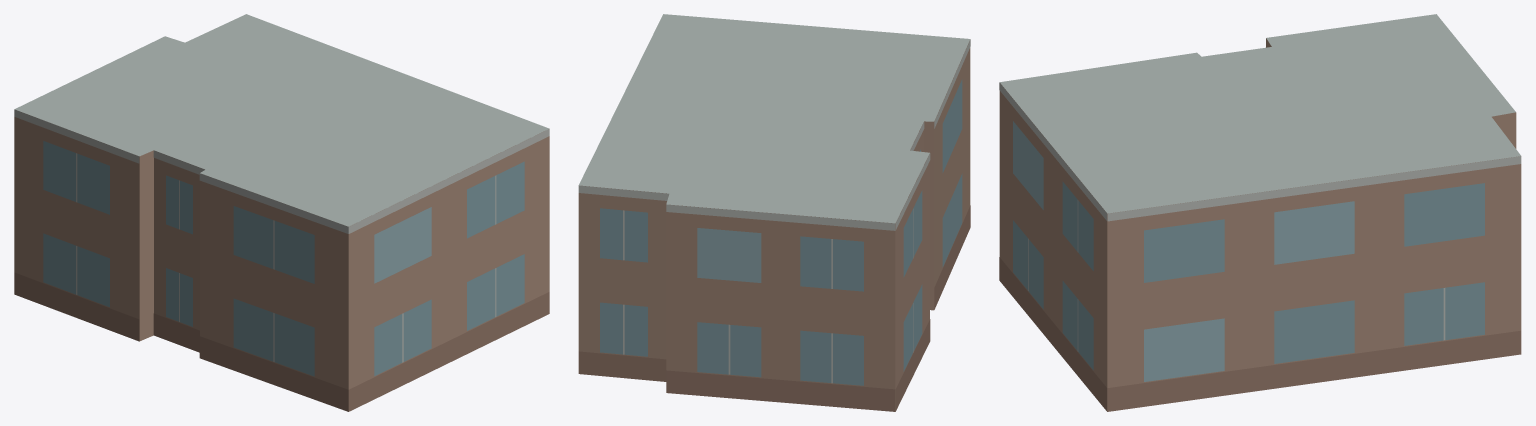
File: survey-upis-32678323.glb
3 renders of one model, left to right at view 1: azimuth 30°, elevation 25°; view 2: azimuth 150°, elevation 25°; view 3: azimuth 270°, elevation 25°, orthographic. The views are drawn at different scales.
Parts seen in each view (by area): view 1: survey-upis-32678323.tmp; view 2: survey-upis-32678323.tmp; view 3: survey-upis-32678323.tmp.
Part boxes in pixels (box(x1,y1,x2,y2)): survey-upis-32678323.tmp: box(14, 14, 549, 411); survey-upis-32678323.tmp: box(578, 14, 970, 411); survey-upis-32678323.tmp: box(999, 14, 1521, 411).
Size of the model in its own units: 13.17 by 6.1 by 14.56.
